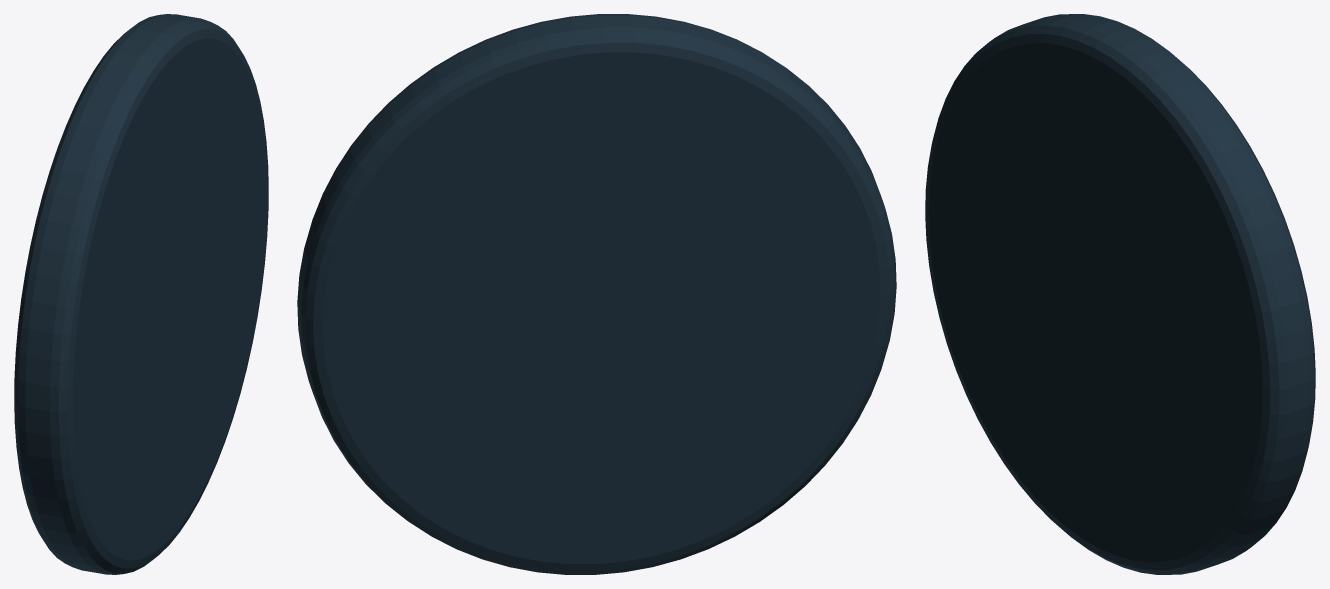
Rendered from SM_HC_BeatSpeaker_14.fbx.
The picture shows the model from 3 angles, left to right: view 1: azimuth 30°, elevation 25°; view 2: azimuth 150°, elevation 25°; view 3: azimuth 270°, elevation 25°; orthographic projection. The views are drawn at different scales.
Parts seen in each view (by area): view 1: SM_HC_BeatSpeaker_14; view 2: SM_HC_BeatSpeaker_14; view 3: SM_HC_BeatSpeaker_14.
Boxes of the visible parts, left/top/right/bottom form: SM_HC_BeatSpeaker_14: left=14, top=14, right=268, bottom=574; SM_HC_BeatSpeaker_14: left=297, top=14, right=896, bottom=574; SM_HC_BeatSpeaker_14: left=925, top=14, right=1315, bottom=574.
Bounding box in the file's own units: 106 × 87.05 × 128.
